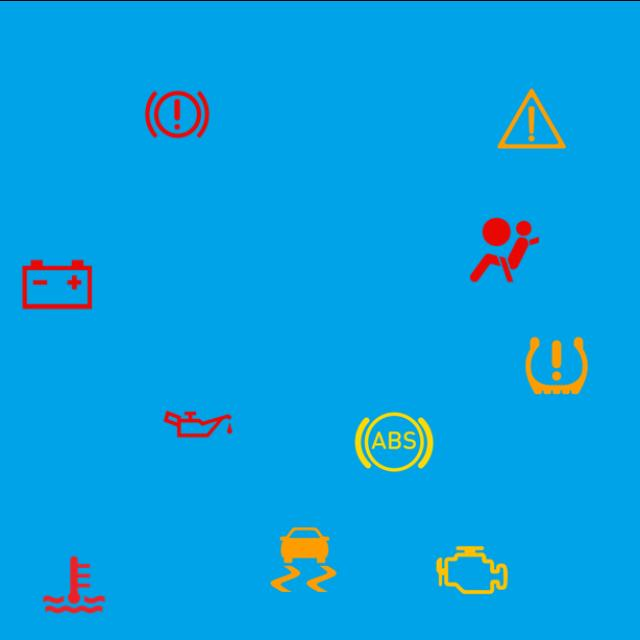Anti Lock Braking System: (351, 398, 437, 484)
Braking System Issue: (134, 70, 220, 156)
Charging System Issue: (15, 240, 100, 326)
Check Engine: (429, 526, 515, 612)
Electronic Stability Problem -ESP-: (260, 516, 346, 602)
Engine Overheating Warning Light: (31, 540, 117, 626)
Low Engine Oil Warning Light: (155, 380, 241, 466)
Low Tire Pressure Warning Light: (514, 322, 600, 408)
Master warning light: (488, 75, 574, 161)
SRS-Airbag: (462, 206, 548, 292)
